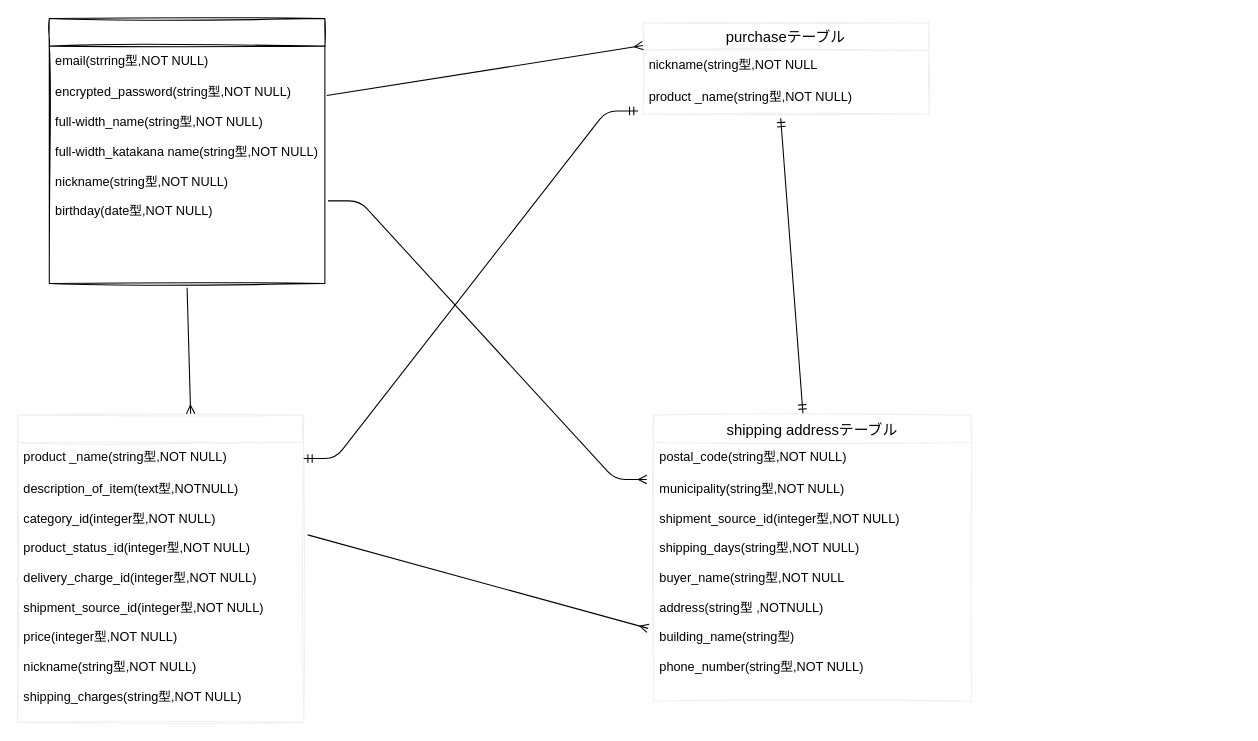
Some shapes in this 1258 by 741 pixel diagram are drawn without their labels. The box of each missing label's shape, as (x1, y1, x2, y2) in pixels:
itemsテーブル: (16, 414, 304, 722)
usersテーブル: (48, 17, 325, 284)
